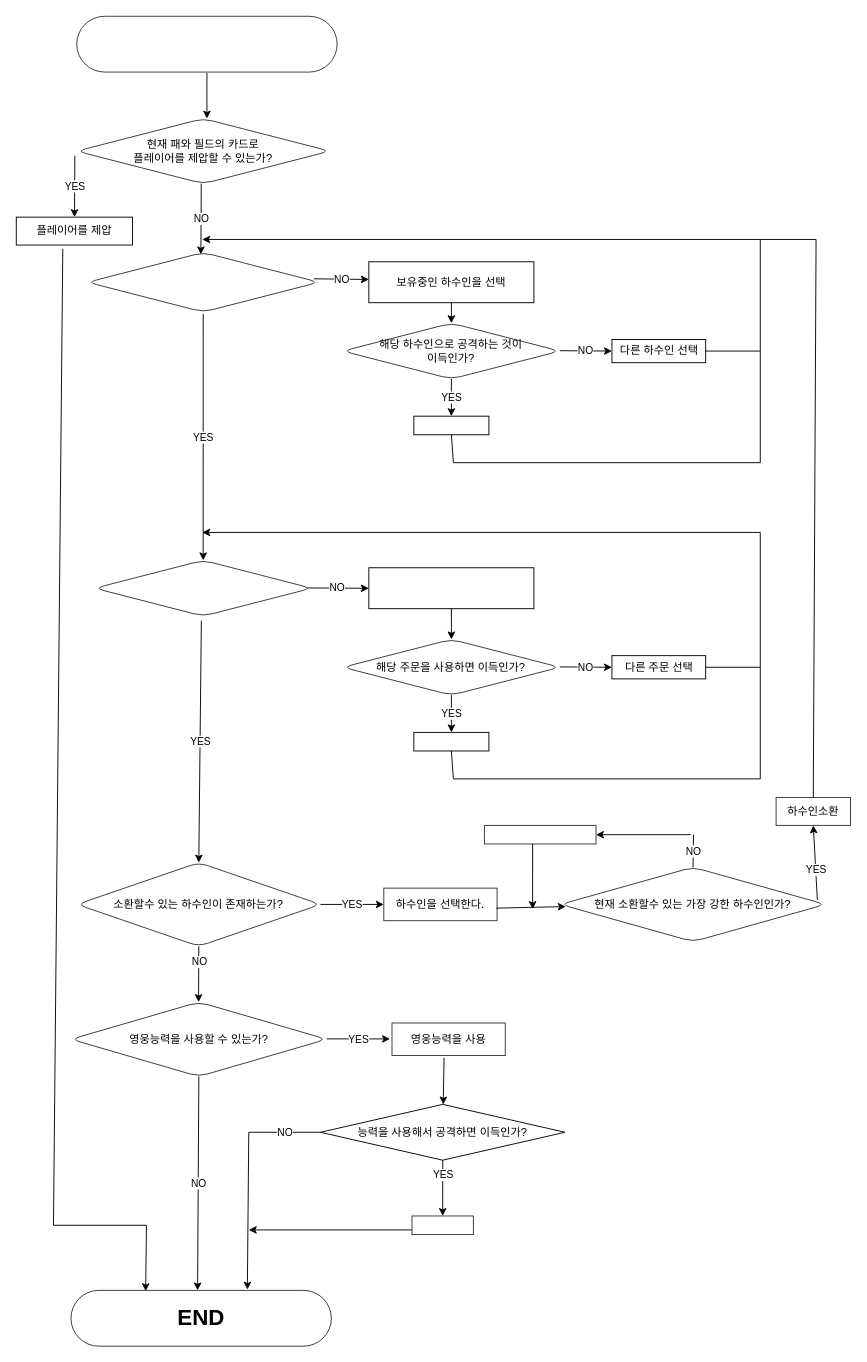
Image size: 867x1362. Some labels were removed from this diagram. The shapes that lost their labels are listed below. From the top down, each one's centre as x and y in pixels, then its label:
At pixel 206 43: "START".
At pixel 203 282: "공격가능한 모든 하수인을 선택했는가?".
At pixel 451 425: "하수인 공격".
At pixel 203 587: "모든 주문을 선택했는가?".
At pixel 451 588: "보유중인 주문을 선택".
At pixel 451 741: "주문사용".
At pixel 540 834: "다른하수인을 선택".
At pixel 442 1225: "공격".
